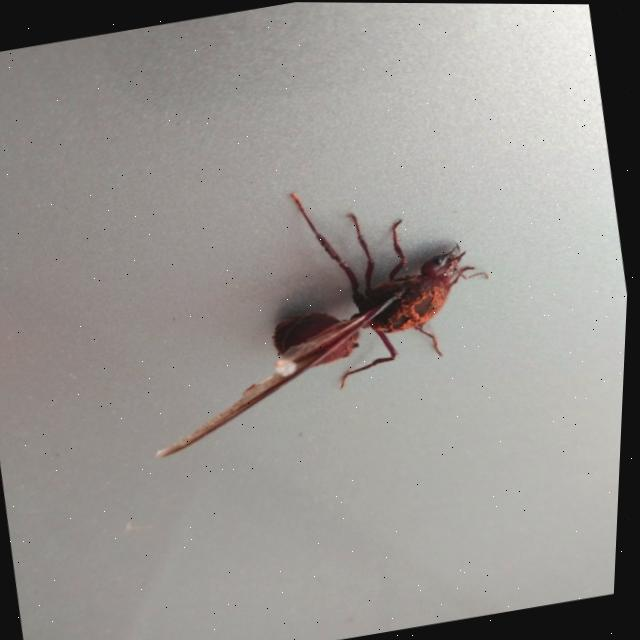Alive-Female-Alate: (119, 158, 519, 460)
